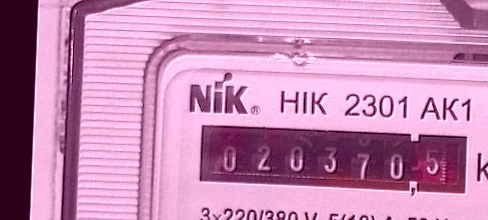0: (387, 151, 406, 182), (220, 142, 238, 172), (288, 143, 304, 172)
2: (254, 142, 273, 173)
3: (321, 143, 338, 174)
5: (423, 145, 442, 177)
7: (354, 151, 370, 181)
screen: (191, 117, 476, 203)
